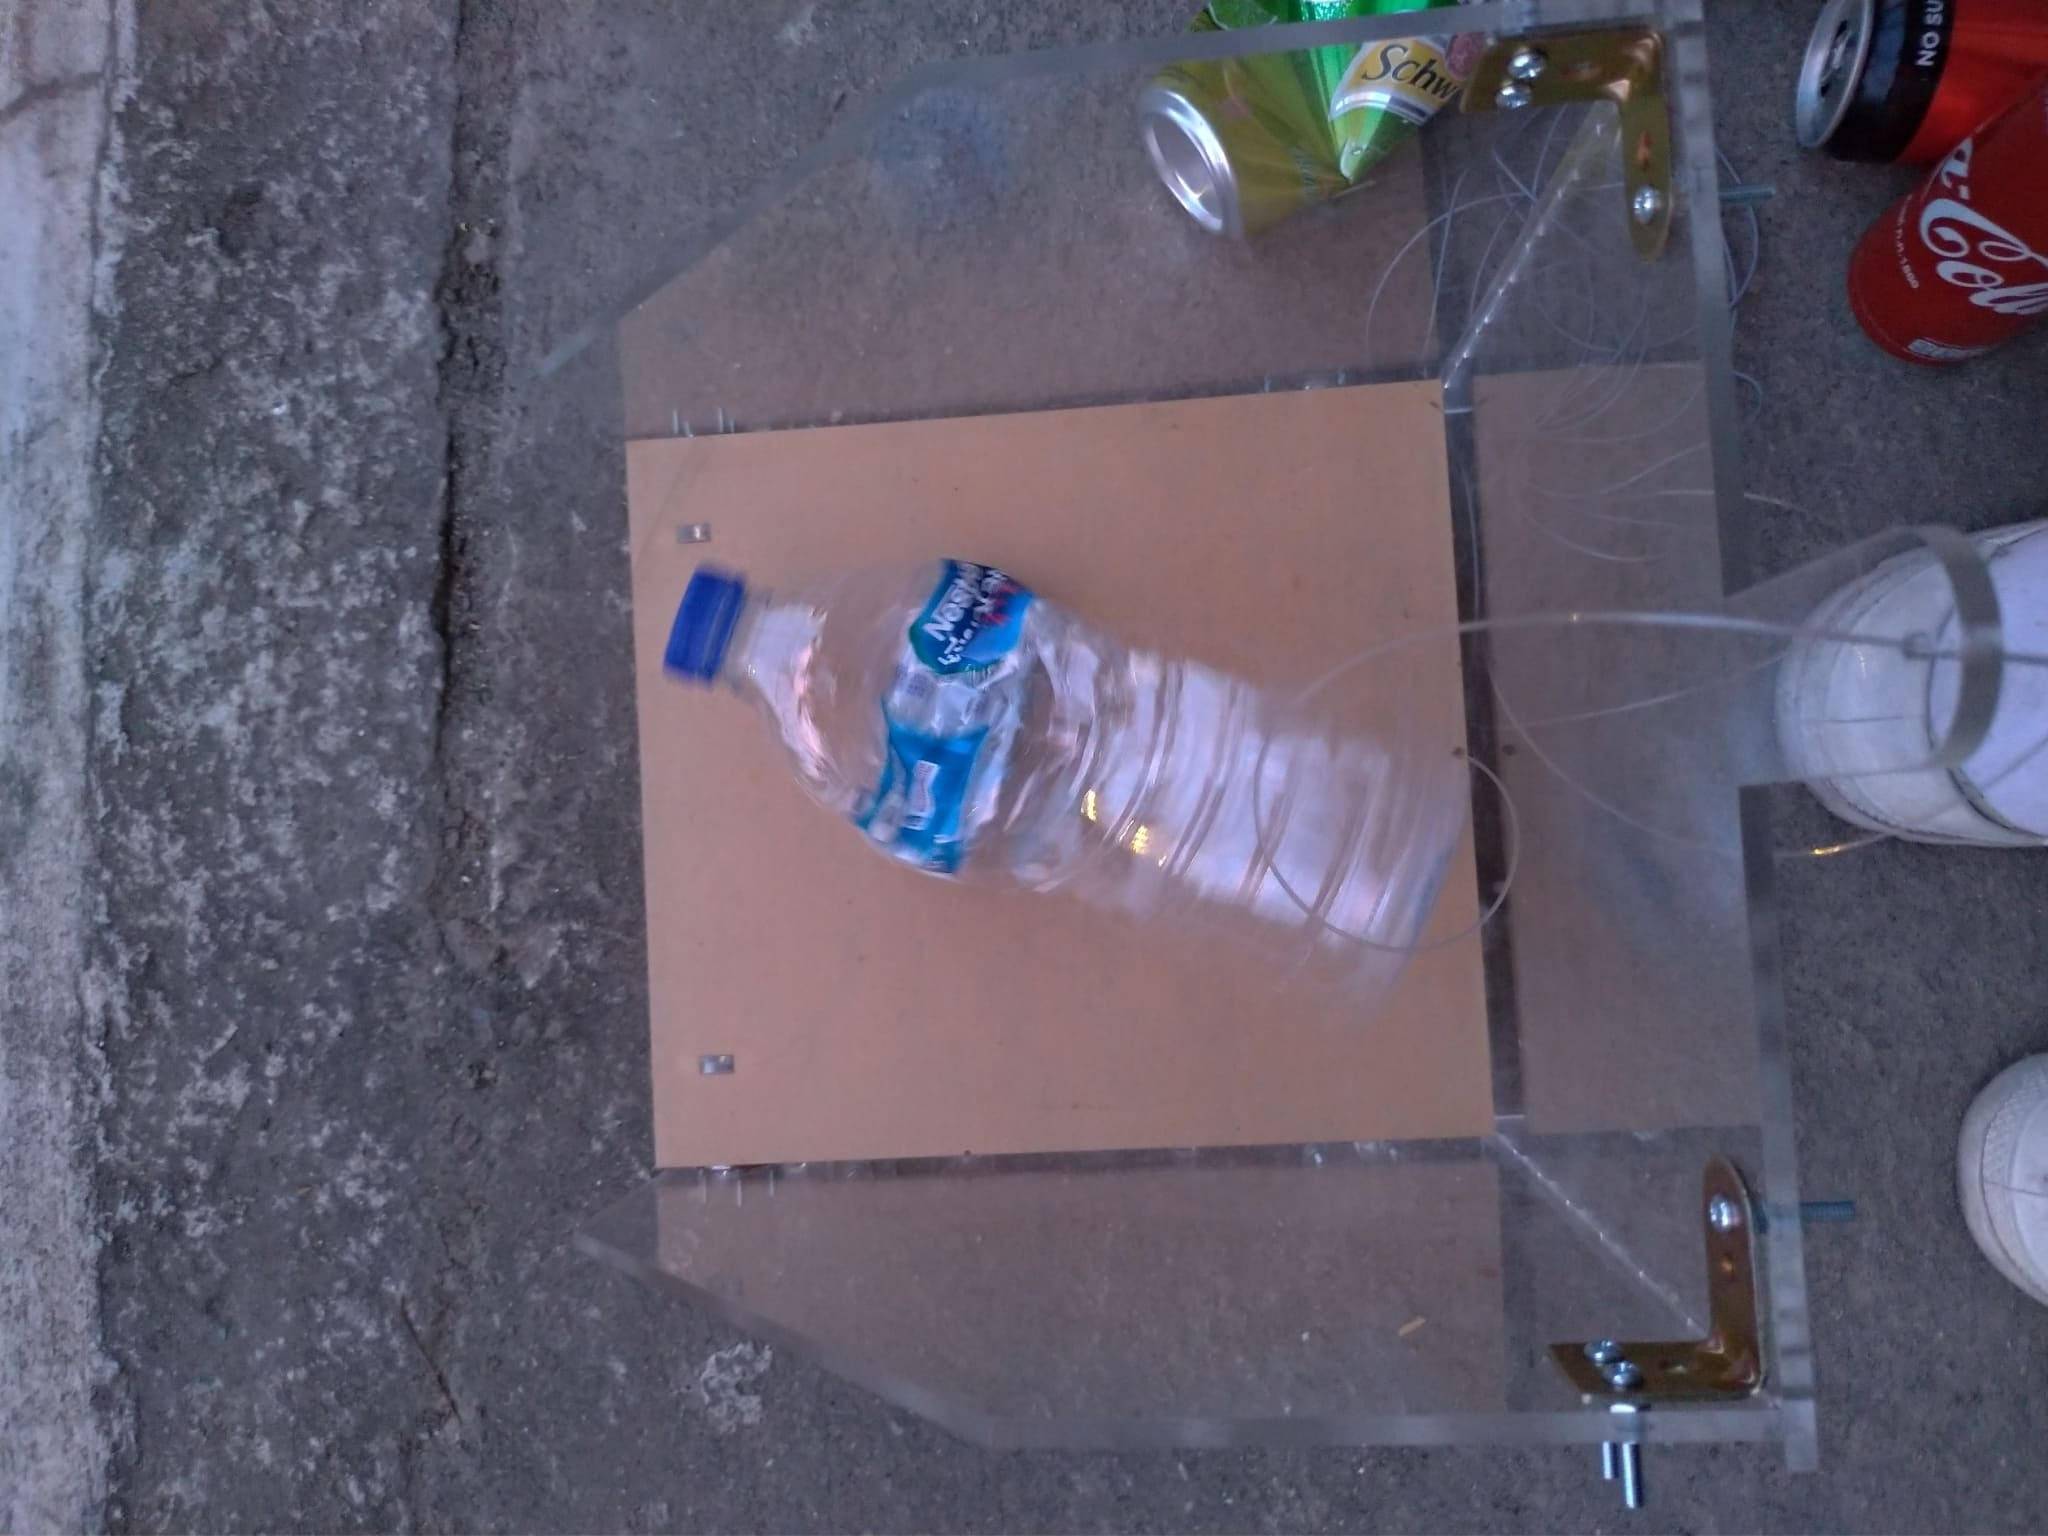AlCan: (1138, 5, 1479, 231), (1851, 61, 2048, 368), (1788, 5, 2029, 169)
PlasticBottle: (656, 565, 1472, 1012)
